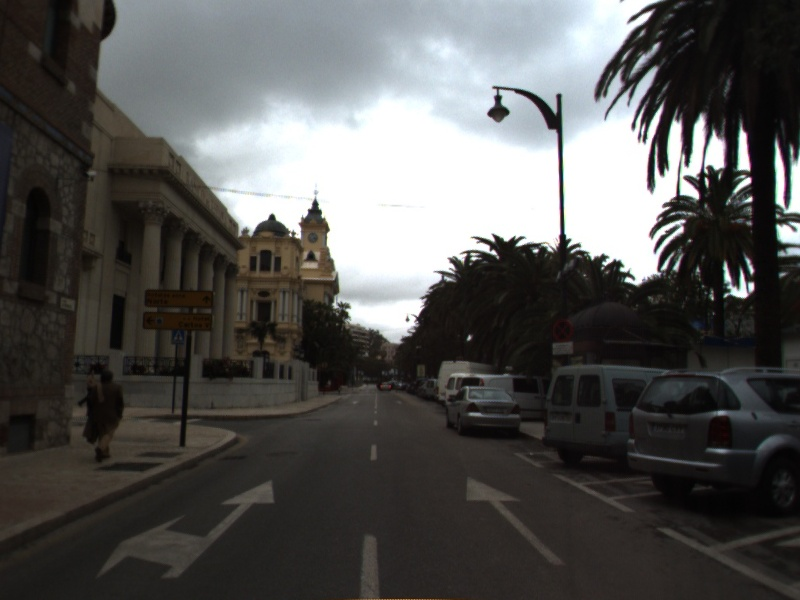STRAIGHT: (462, 473, 572, 570)
STRAIGHT_LEFT: (92, 477, 279, 582)
